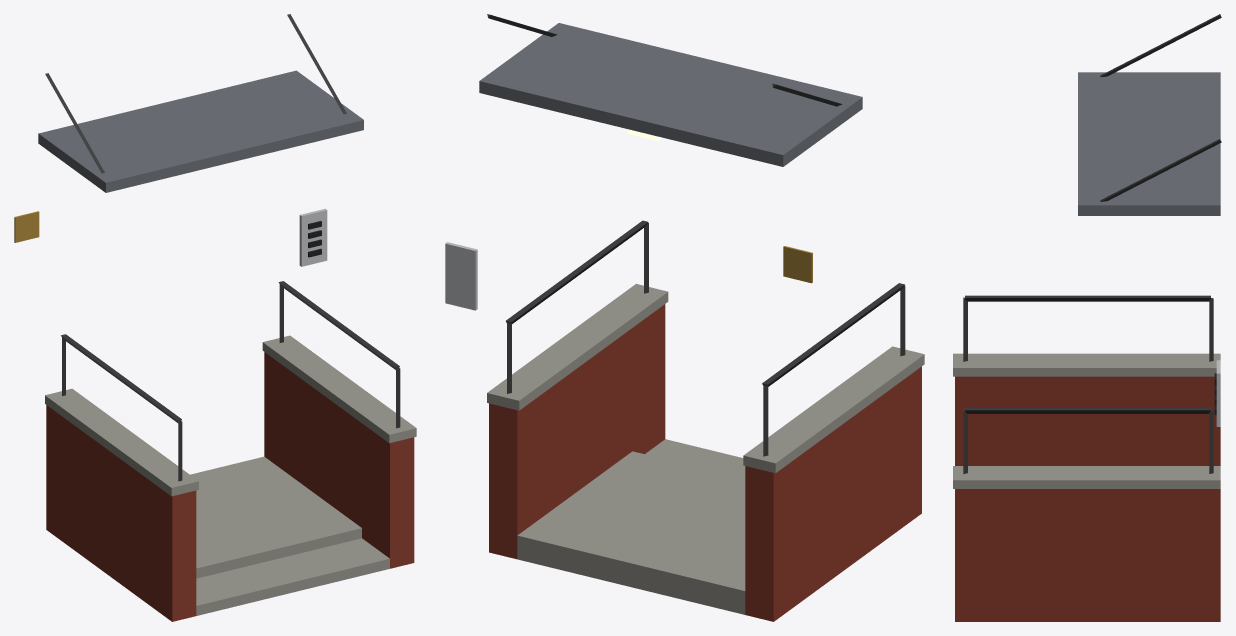
Rendered from entrance_stoop.glb.
3 renders of one model, left to right at view 1: azimuth 30°, elevation 25°; view 2: azimuth 150°, elevation 25°; view 3: azimuth 270°, elevation 25°, orthographic. The views are drawn at different scales.
Visible parts, largest first — view 1: entrance_stoop; view 2: entrance_stoop; view 3: entrance_stoop.
Boxes of the visible parts, x1,y1,x2,y2 form: entrance_stoop: (14,14,416,621); entrance_stoop: (445,14,924,621); entrance_stoop: (953,14,1221,621).
Bounding box in the file's own units: 1.93 × 2.71 × 1.37.
1 material, 1 textured.
